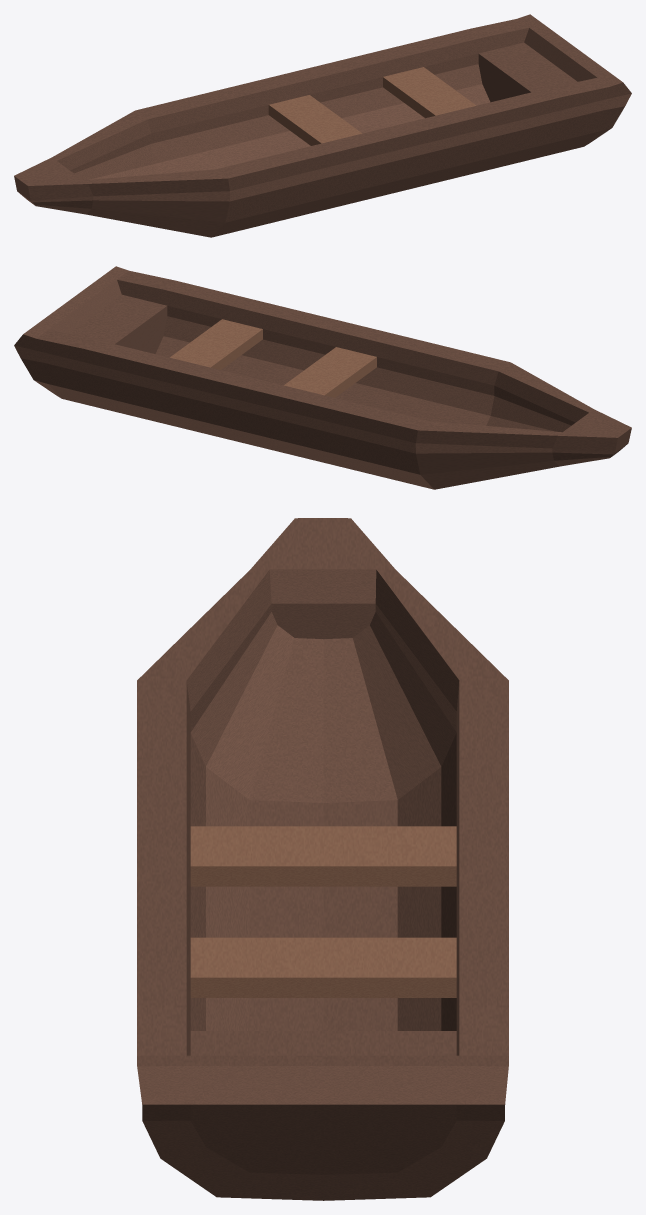
Rendered from boot.fbx.
The picture shows the model from 3 angles, top to bottom: view 1: azimuth 30°, elevation 25°; view 2: azimuth 150°, elevation 25°; view 3: azimuth 270°, elevation 25°; orthographic projection. The views are drawn at different scales.
Visible parts, largest first — view 1: Boat; view 2: Boat; view 3: Boat.
Boxes of the visible parts, x1,y1,x2,y2 form: Boat: (14, 14, 631, 237); Boat: (14, 266, 631, 489); Boat: (137, 518, 508, 1200).
Bounding box in the file's own units: 346 × 46.45 × 98.43.
Materials: 1 (1 with a texture image).
